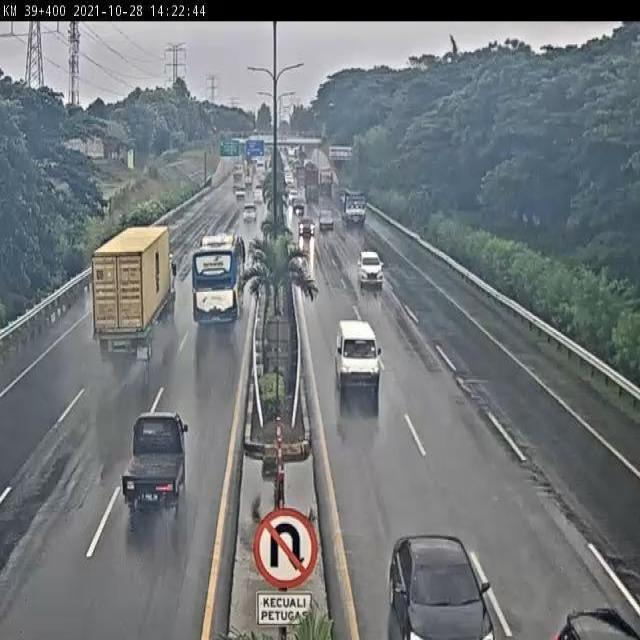Bus: (190, 234, 246, 327), (232, 165, 242, 183)
Car: (386, 534, 496, 636), (357, 250, 384, 288), (298, 217, 316, 237), (318, 210, 334, 231), (243, 203, 257, 222), (292, 196, 305, 216), (284, 186, 294, 205), (255, 172, 263, 189), (244, 174, 252, 187)
Truck: (93, 224, 181, 366), (122, 411, 190, 525), (341, 190, 366, 226), (303, 160, 319, 201), (319, 168, 334, 198), (253, 188, 263, 204), (236, 188, 246, 201)
Van: (335, 318, 382, 409)
